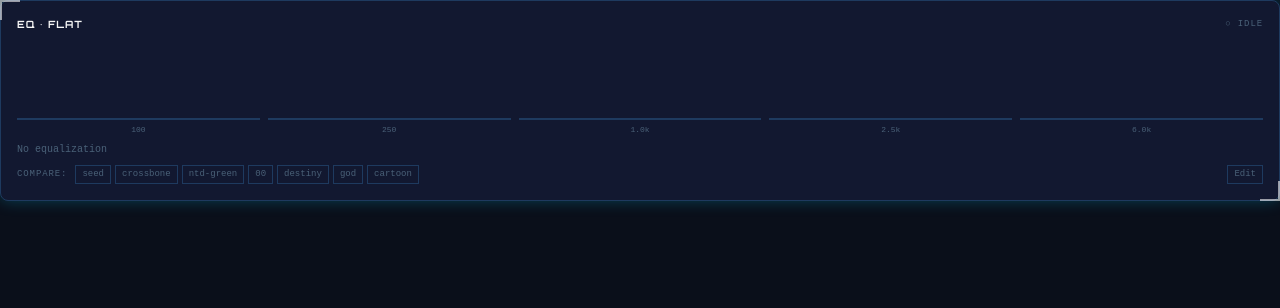
Test: CockpitEqCard A/B compare (Sprint 62 A-A3) › Edit button toggles the per-band slider grid
Click the button with test id "eq-edit-toggle".
click(1245, 174)  # box x1=1227 y1=164 x2=1263 y2=184
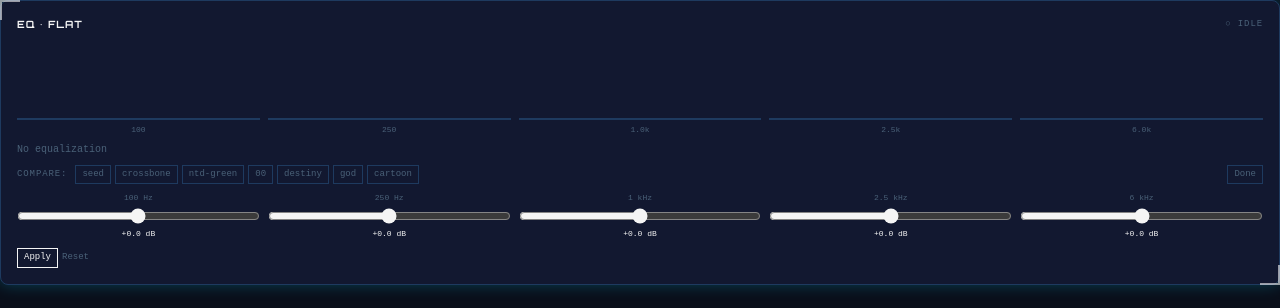
Result: the element with test id "eq-editor-grid" is shown at x1=17 y1=192 x2=1263 y2=240
Result: the slider with test id "eq-editor-band-0" is shown at x1=17 y1=208 x2=260 y2=224
Result: the slider with test id "eq-editor-band-4" is shown at x1=1020 y1=208 x2=1263 y2=224
